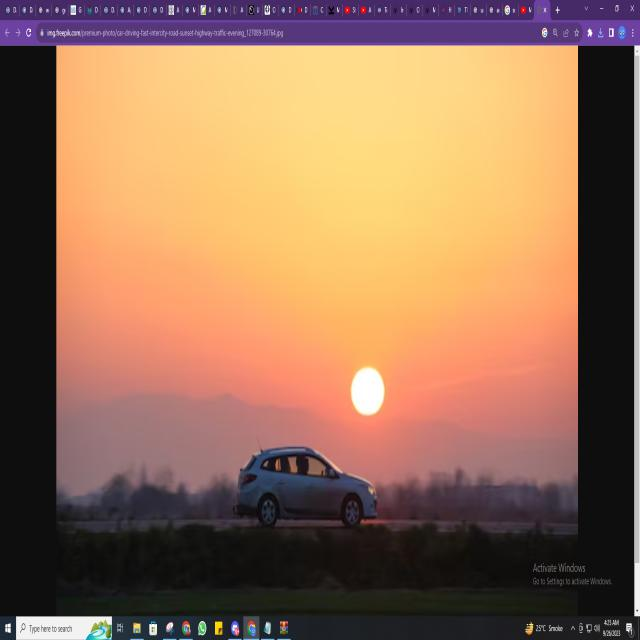sun: (333, 340, 403, 444)
